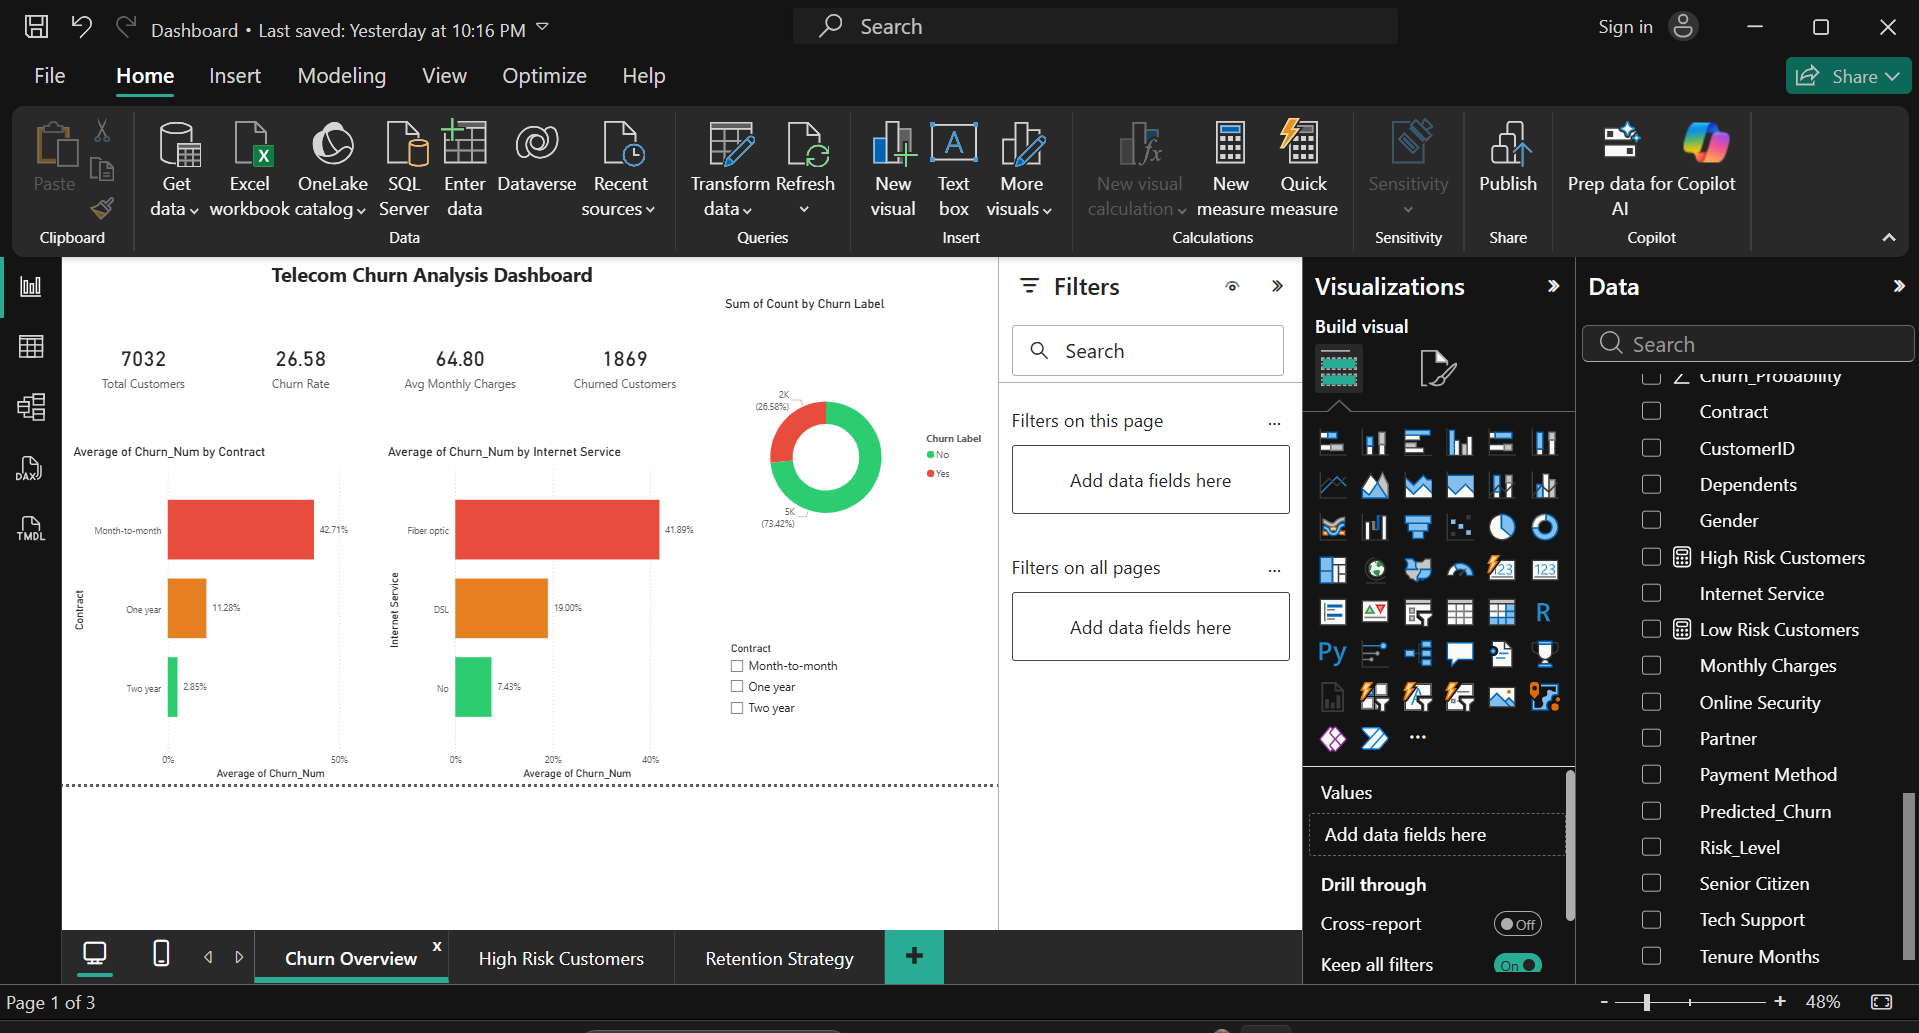

What the dashboard file says about the page in this screenshot:
{"tool":"powerbi","page":{"name":"Churn Overview","canvas":[1280,720],"ordinal":0},"visuals":[{"type":"card","fields":{"Values":["churn_cleaned.Total Customers"]},"box":[9.6,69,201.4,159.2],"z":0},{"type":"card","fields":{"Values":["churn_cleaned.Avg Monthly Charges"]},"box":[441.1,69,207.1,159.2],"z":1000},{"type":"card","fields":{"Values":["churn_cleaned.Churn Rate"]},"box":[211,69,230.1,159.2],"z":2000},{"type":"clusteredBarChart","fields":{"Category":["churn_cleaned.Contract"],"Y":["Avg(churn_cleaned.Churn_Num)"]},"box":[9.6,257,431.5,462.2],"z":3000},{"type":"clusteredBarChart","fields":{"Y":["Avg(churn_cleaned.Churn_Num)"],"Category":["churn_cleaned.Internet Service"]},"box":[441.1,257,446.8,462.2],"z":4000},{"type":"donutChart","fields":{"Category":["churn_cleaned.Churn Label"],"Y":["Sum(churn_cleaned.Count)"]},"box":[901.4,53.7,377.8,420],"z":5000},{"type":"slicer","fields":{"Values":["churn_cleaned.Contract"]},"box":[901.4,521.6,377.8,168.8],"z":6000},{"type":"textbox","box":[281.9,0,452.6,53.7],"z":7000},{"type":"card","fields":{"Values":["churn_cleaned.Churned Customers"]},"box":[648,69,240,159],"z":7001}]}

Visuals, with their boxes on the page's 1280x720 design canvas (x1, y1, x2, y2). These are canvas units, not pixel positions in the 1919x1033 screenshot, which may show the page scaled, cropped or inside an application window:
card - churn_cleaned.Total Customers: box(10, 69, 211, 228)
card - churn_cleaned.Avg Monthly Charges: box(441, 69, 648, 228)
card - churn_cleaned.Churn Rate: box(211, 69, 441, 228)
clusteredBarChart - churn_cleaned.Contract x Avg(churn_cleaned.Churn_Num): box(10, 257, 441, 719)
clusteredBarChart - Avg(churn_cleaned.Churn_Num) x churn_cleaned.Internet Service: box(441, 257, 888, 719)
donutChart - churn_cleaned.Churn Label x Sum(churn_cleaned.Count): box(901, 54, 1279, 474)
slicer - churn_cleaned.Contract: box(901, 522, 1279, 690)
textbox: box(282, 0, 734, 54)
card - churn_cleaned.Churned Customers: box(648, 69, 888, 228)
